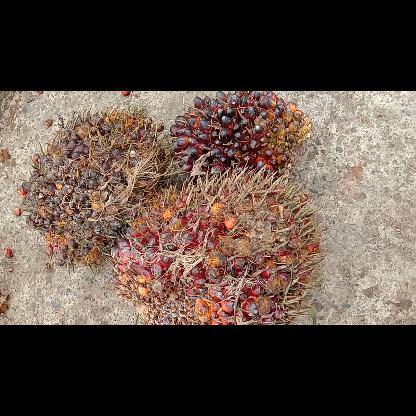Kurang masak: (16, 105, 164, 268), (170, 91, 310, 181)
TBS masak: (110, 170, 320, 324)
